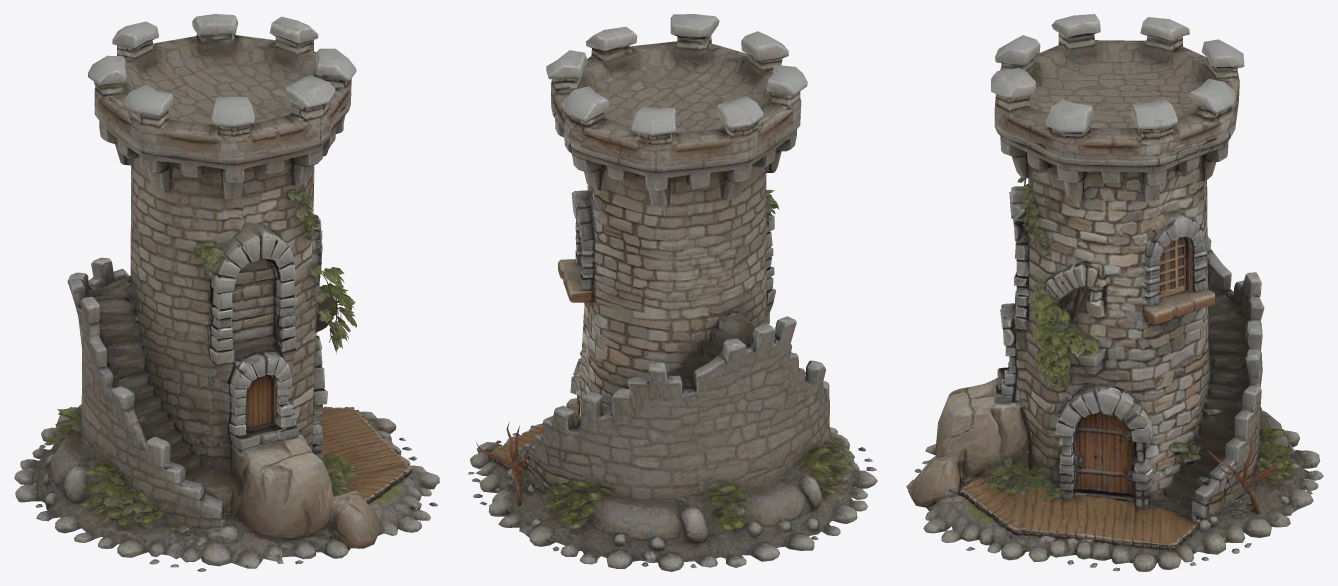
The model's file is keep.glb.
3 views of the same model, side by side, from view 1: azimuth 30°, elevation 25°; view 2: azimuth 150°, elevation 25°; view 3: azimuth 270°, elevation 25° (orthographic).
Visible parts, largest first — view 1: tripo_node_9acc8e6a-afb4-4597-ba8f-ba98dbe6e090_0; view 2: tripo_node_9acc8e6a-afb4-4597-ba8f-ba98dbe6e090_0; view 3: tripo_node_9acc8e6a-afb4-4597-ba8f-ba98dbe6e090_0.
Part boxes in pixels (left/top/right/bottom): tripo_node_9acc8e6a-afb4-4597-ba8f-ba98dbe6e090_0: left=14, top=14, right=439, bottom=571; tripo_node_9acc8e6a-afb4-4597-ba8f-ba98dbe6e090_0: left=468, top=14, right=877, bottom=571; tripo_node_9acc8e6a-afb4-4597-ba8f-ba98dbe6e090_0: left=906, top=14, right=1323, bottom=571.
Bounding box in the file's own units: 0.8808 × 0.998 × 0.8925.
1 material, 1 textured.
